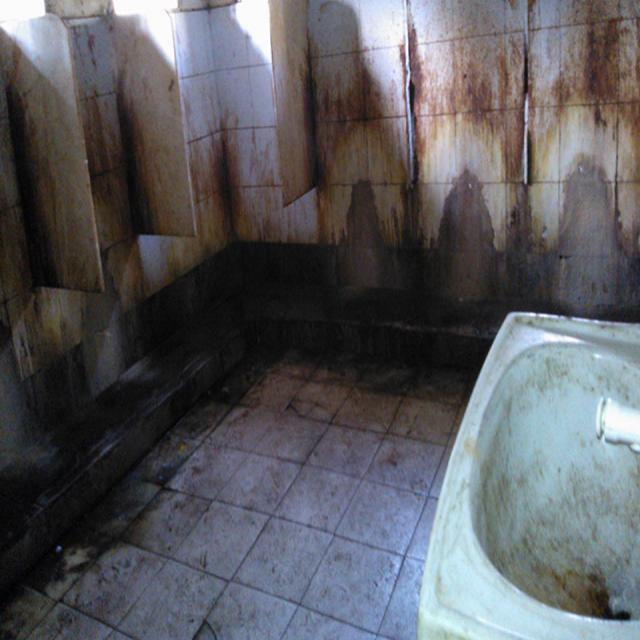dirty_floor: (0, 0, 639, 636), (1, 0, 638, 316), (1, 350, 470, 639)
